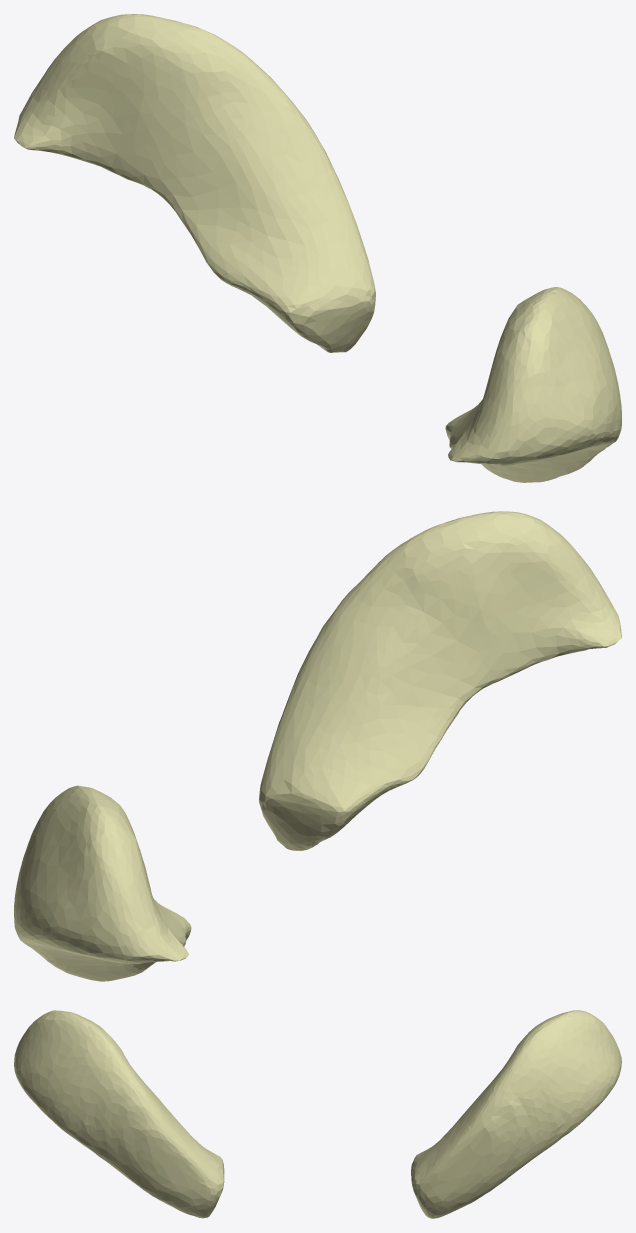
3 renders of one model, top to bottom at view 1: azimuth 30°, elevation 25°; view 2: azimuth 150°, elevation 25°; view 3: azimuth 270°, elevation 25°, orthographic. The views are drawn at different scales.
Visible parts, largest first — view 1: 1025.obj; view 2: 1025.obj; view 3: 1025.obj.
Boxes of the visible parts, left/top/right/bottom form: 1025.obj: left=14, top=14, right=621, bottom=482; 1025.obj: left=14, top=511, right=621, bottom=981; 1025.obj: left=14, top=1010, right=621, bottom=1218.
Bounding box in the file's own units: 2081 × 2417 × 7594.
